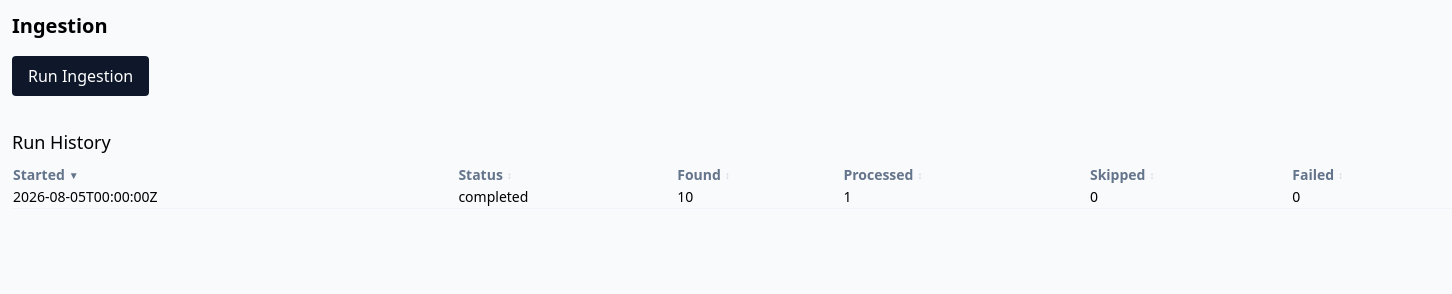
Test case: IngestionPage probable-duplicate files (Epic 14) › falls back to plain words when the matched statement's label is missing
This screenshot has width=1452, height=294.
Click the row with test id "run-history-row-run-1": (732, 197) [12,186,1451,208]
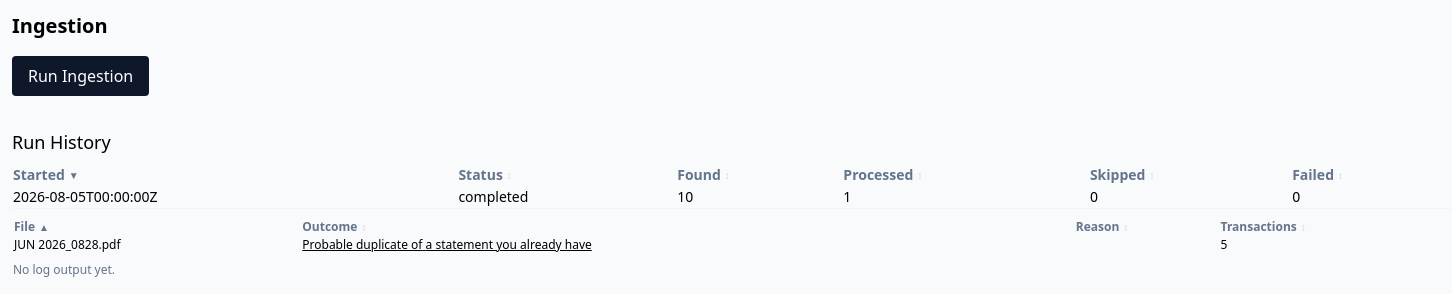
Expected: the link with test id "run-file-duplicate-link-file-1" reads "Probable duplicate of a statement you already have", [302,236,592,253]
